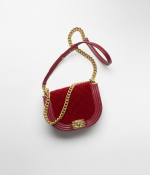channel: (31, 79, 113, 137), (58, 88, 75, 124), (70, 120, 90, 132)
